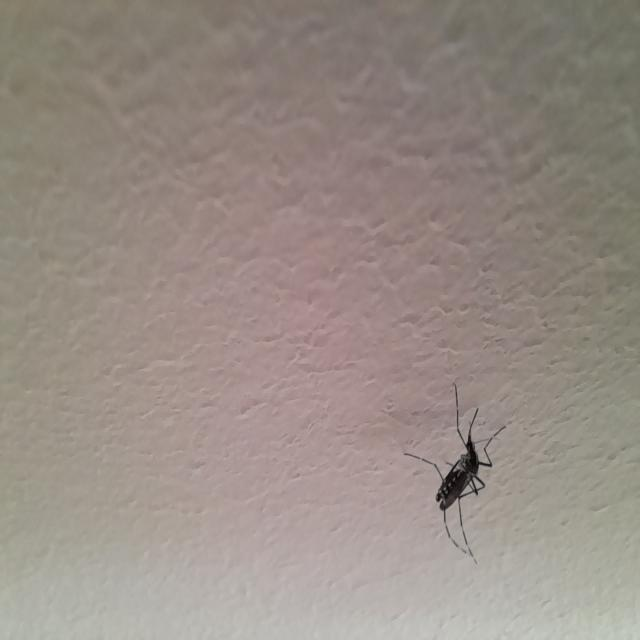albopictus: (403, 376, 507, 570)
